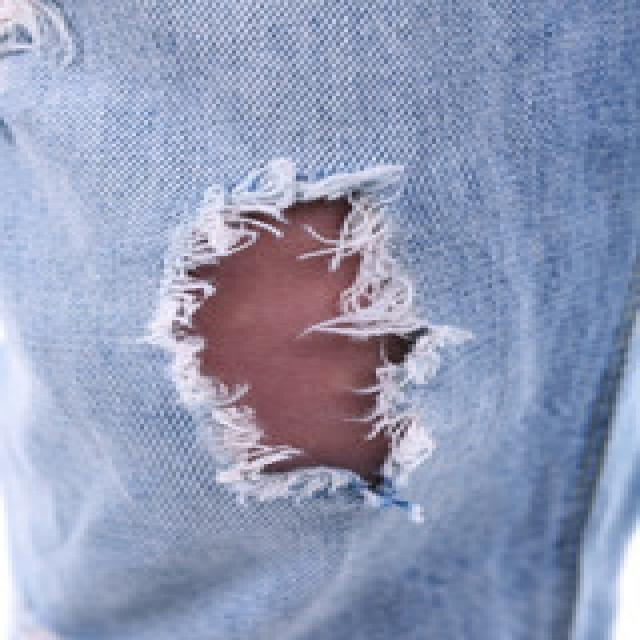Hole: (151, 159, 456, 502)
